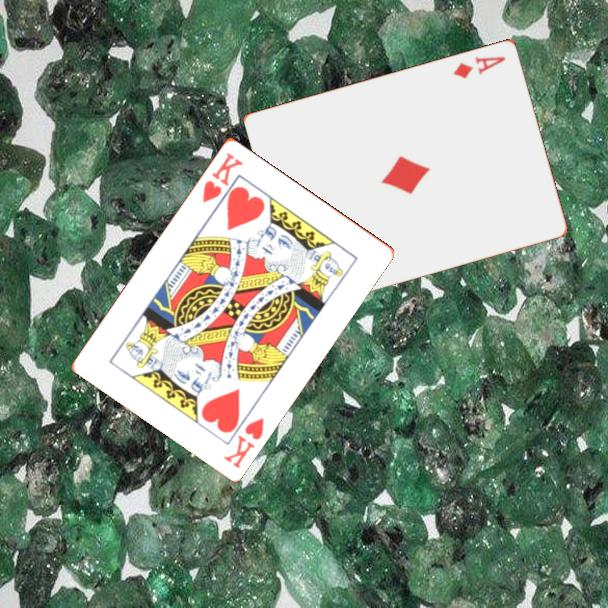d01: (450, 52, 509, 81)
h13: (220, 413, 267, 471), (199, 149, 246, 205)
